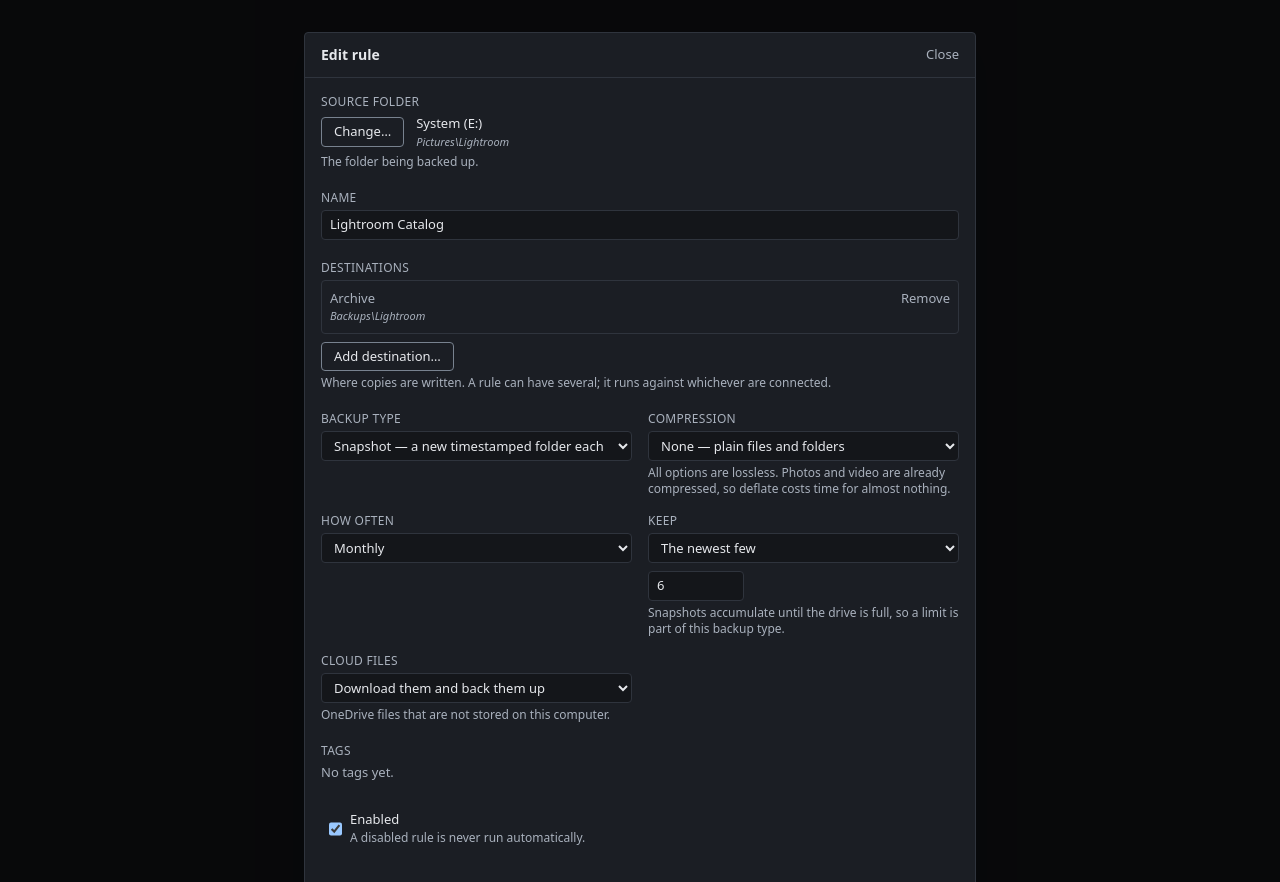
Test case: RuleEditor › says a snapshot will never modify what it has already written
Select "Snapshot — a new timestamped folder each run" in the dropdown labelled "Backup type" at x=476, y=446, box [321,431,632,461]
(page scrolled)
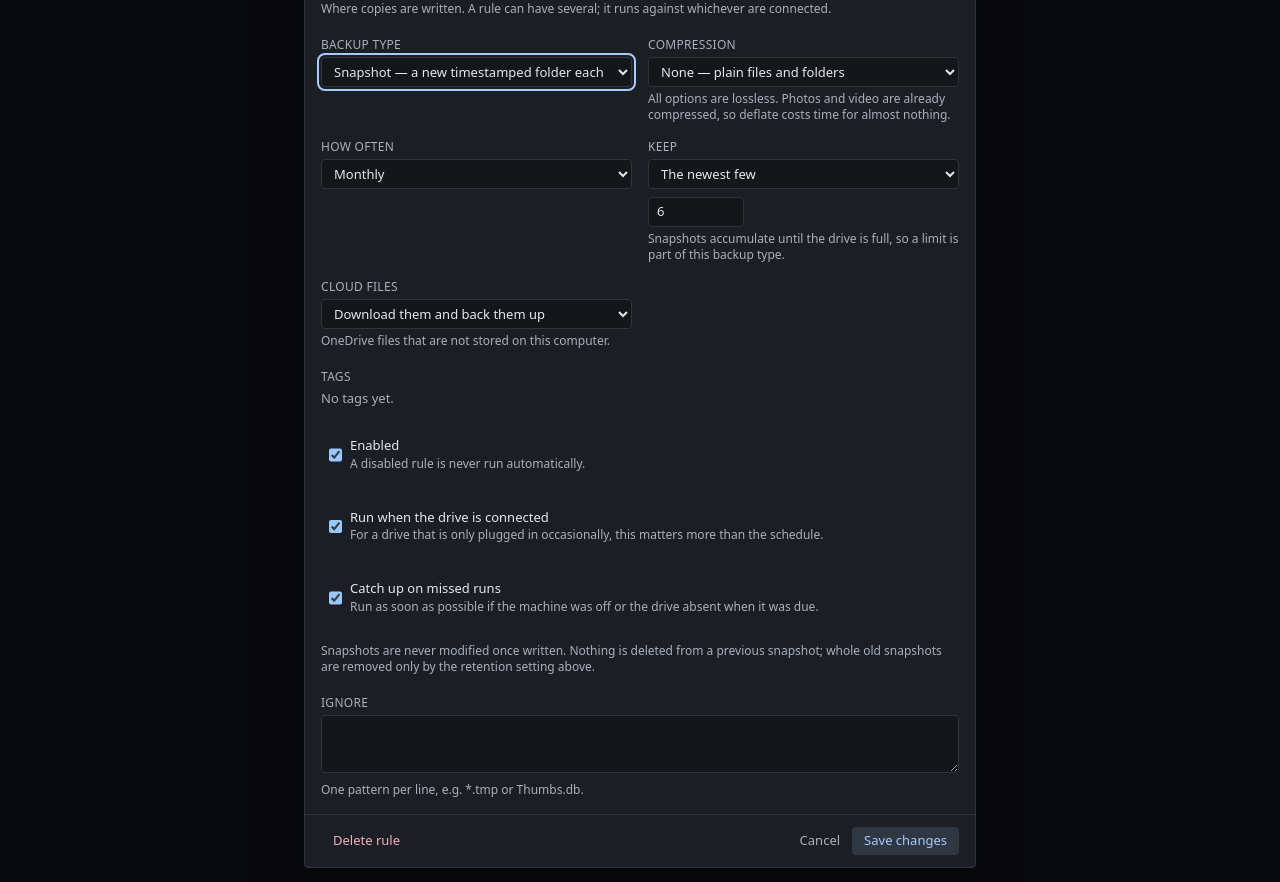
Now the text "Nothing is deleted from a previous snapshot" is shown, box [321,642,942,674]
